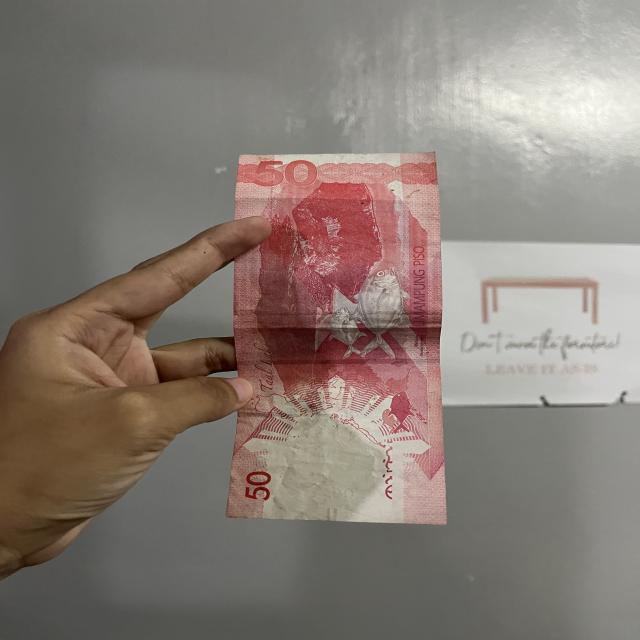see_through_mark: (374, 434, 416, 514)
